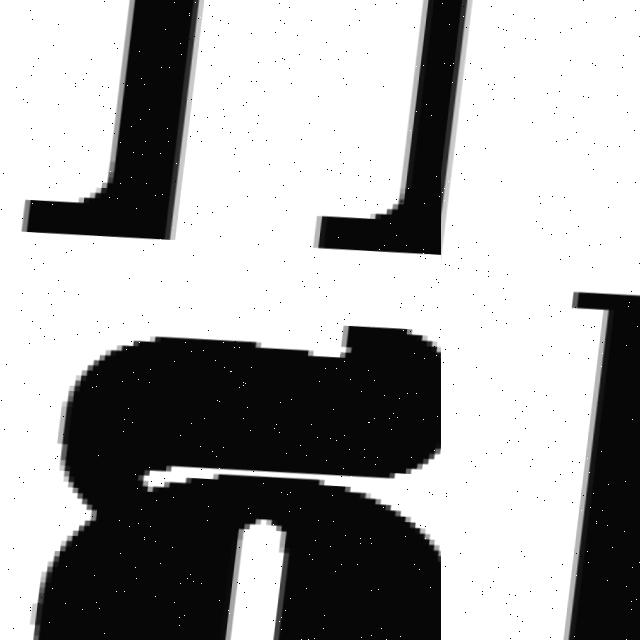G: (11, 299, 441, 640)
K: (498, 282, 640, 640)
T: (441, 0, 550, 281)
U: (17, 0, 441, 277)
